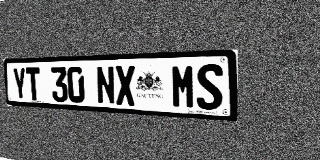0: (67, 66, 85, 103)
3: (51, 67, 68, 102)
M: (171, 64, 196, 109)
N: (96, 66, 116, 105)
S: (196, 64, 223, 111)
T: (25, 67, 41, 101)
X: (115, 65, 136, 106)
Y: (12, 68, 27, 100)
